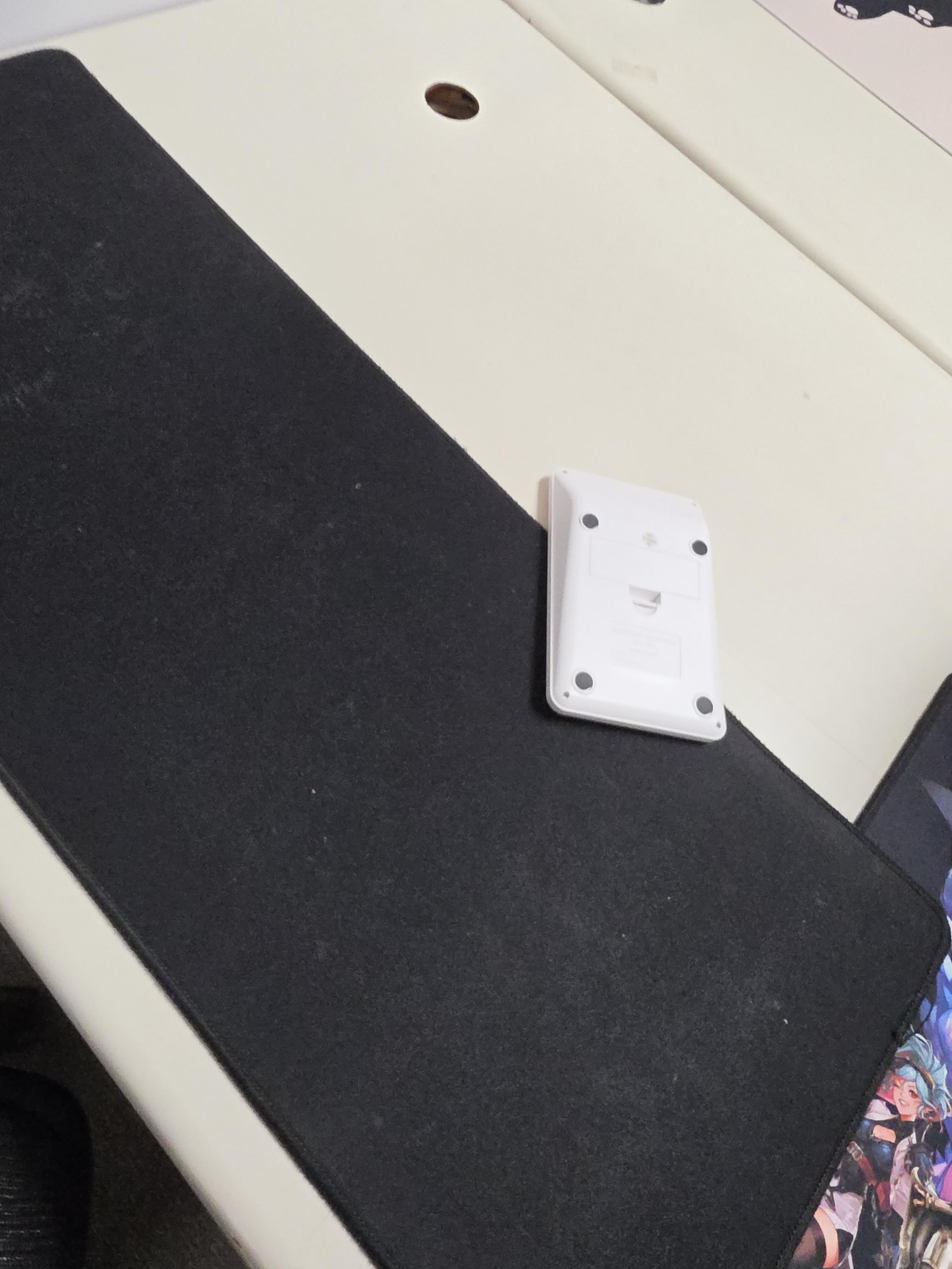calculator: (537, 469, 728, 743)
